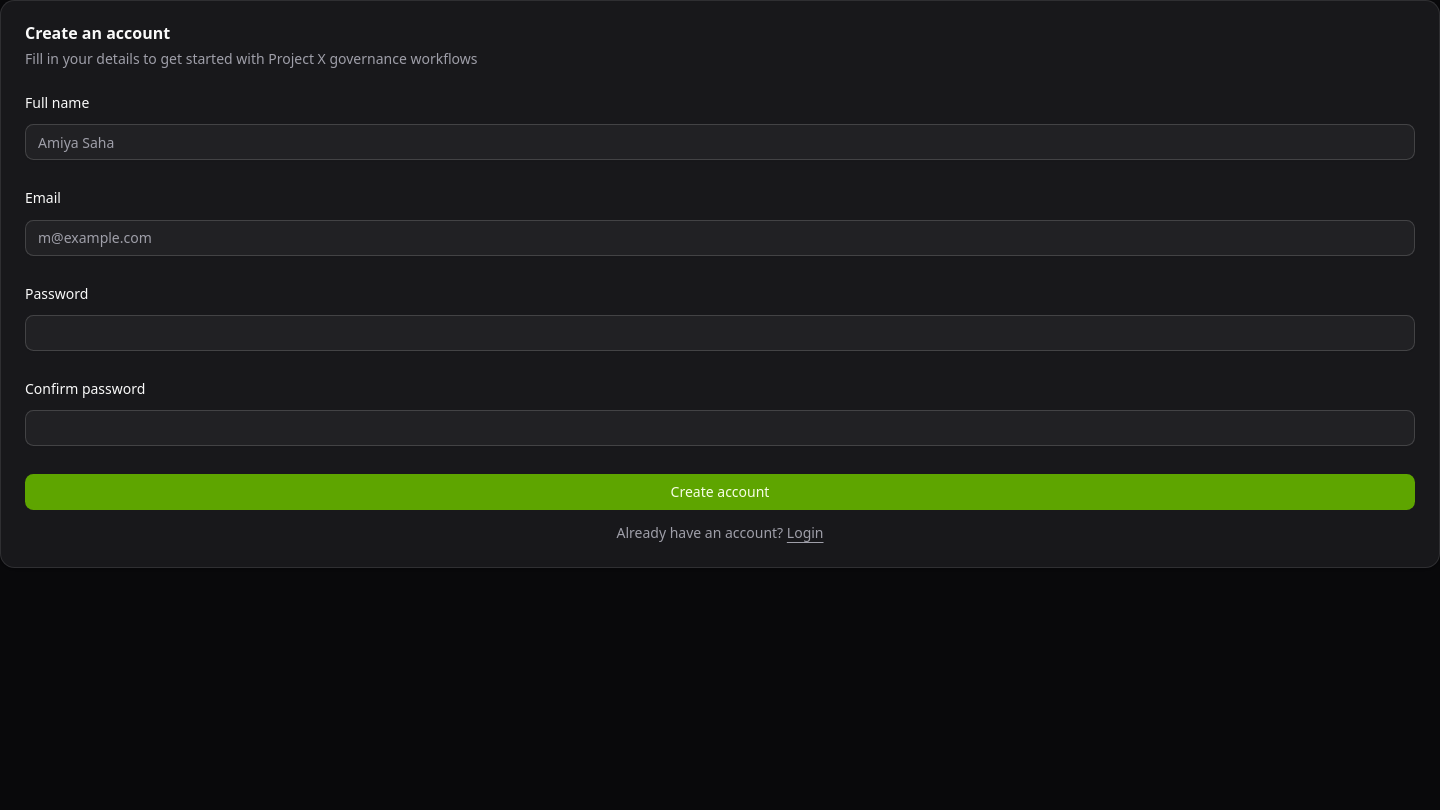
Test: RegisterForm › prevents submission when passwords do not match
Type "pending@example.com" into the field labelled "Email" at (720, 238), box [25, 220, 1415, 256]
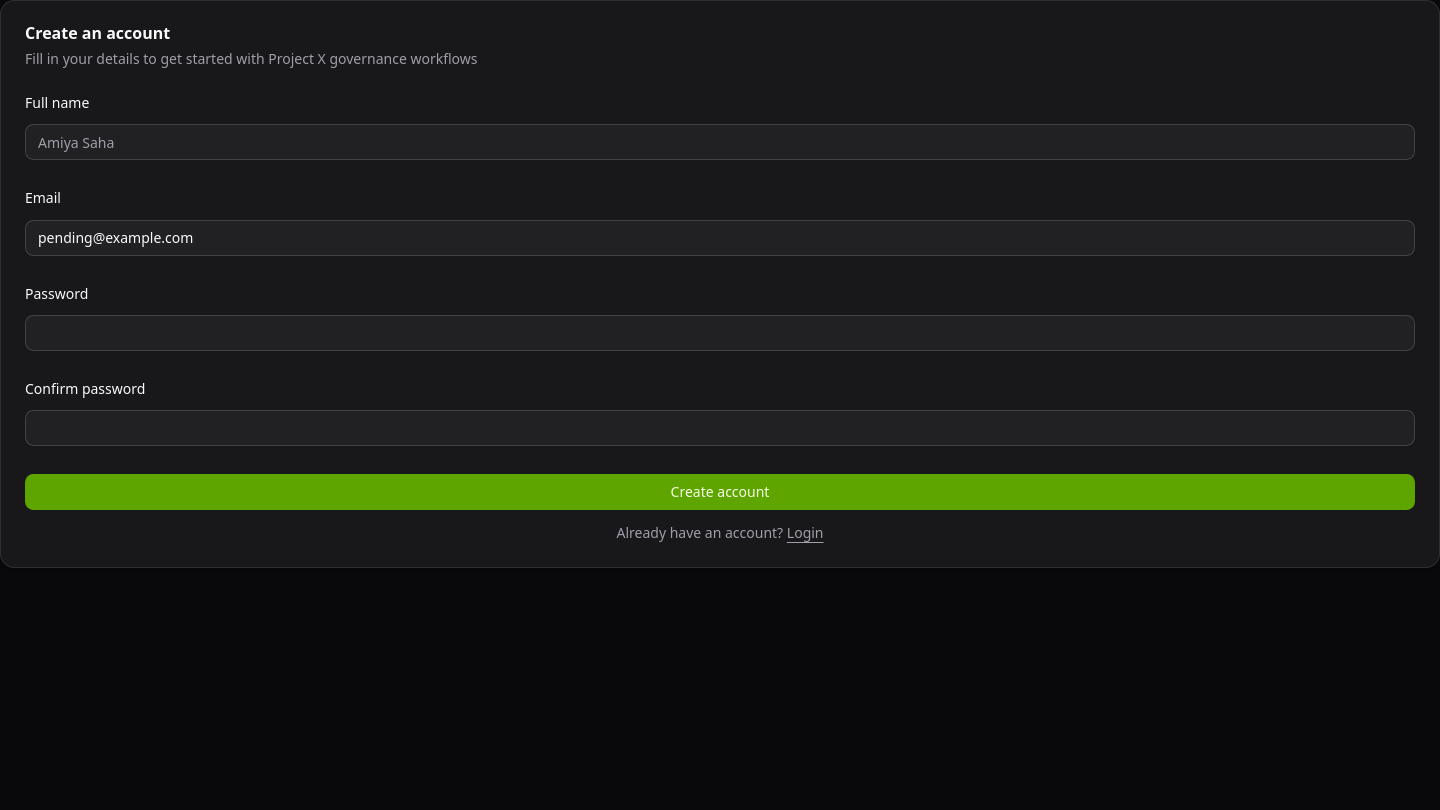
Type "password-one" into the password field labelled "Password" at (720, 333), box [25, 315, 1415, 351]
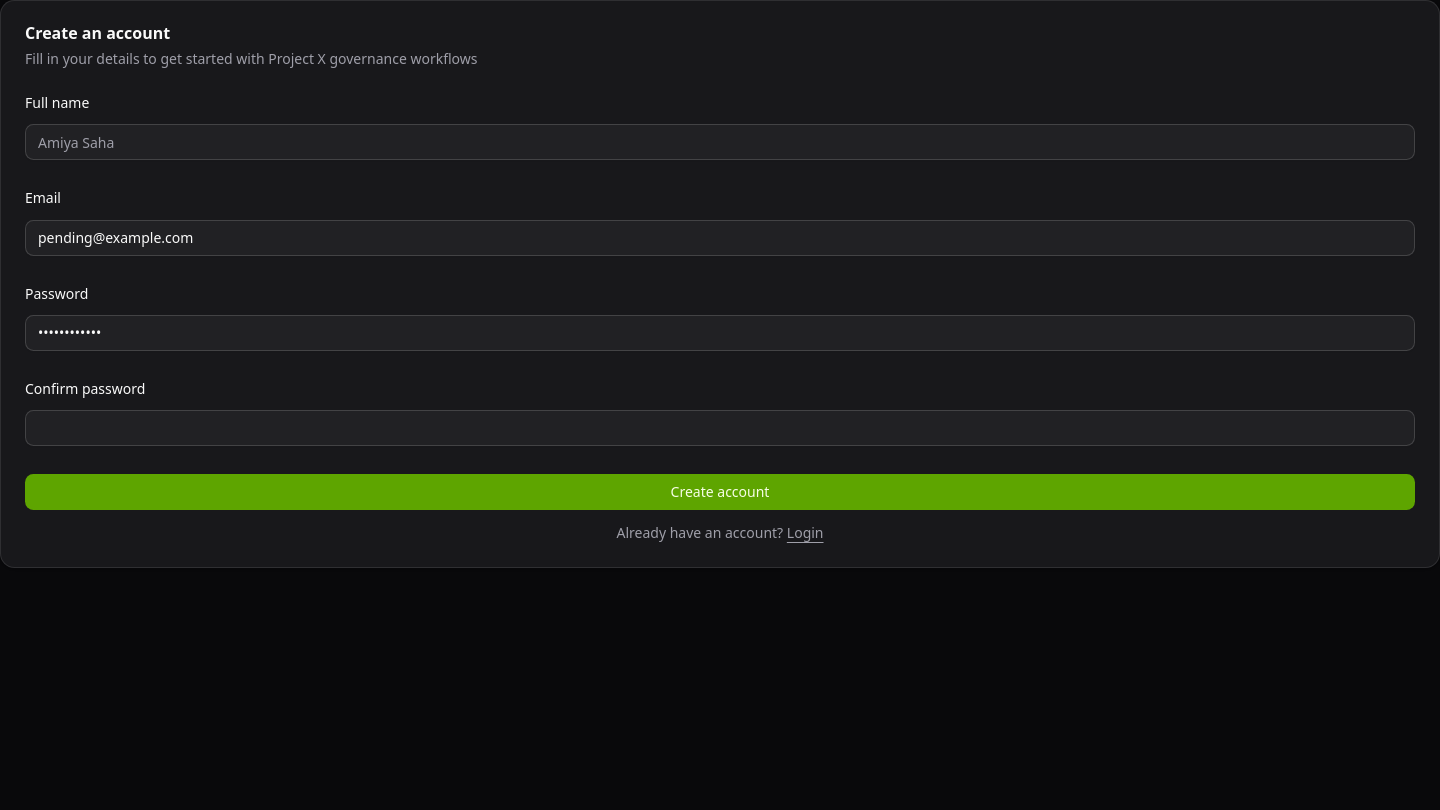
Type "password-two" into the password field labelled "Confirm password" at (720, 428), box [25, 410, 1415, 446]
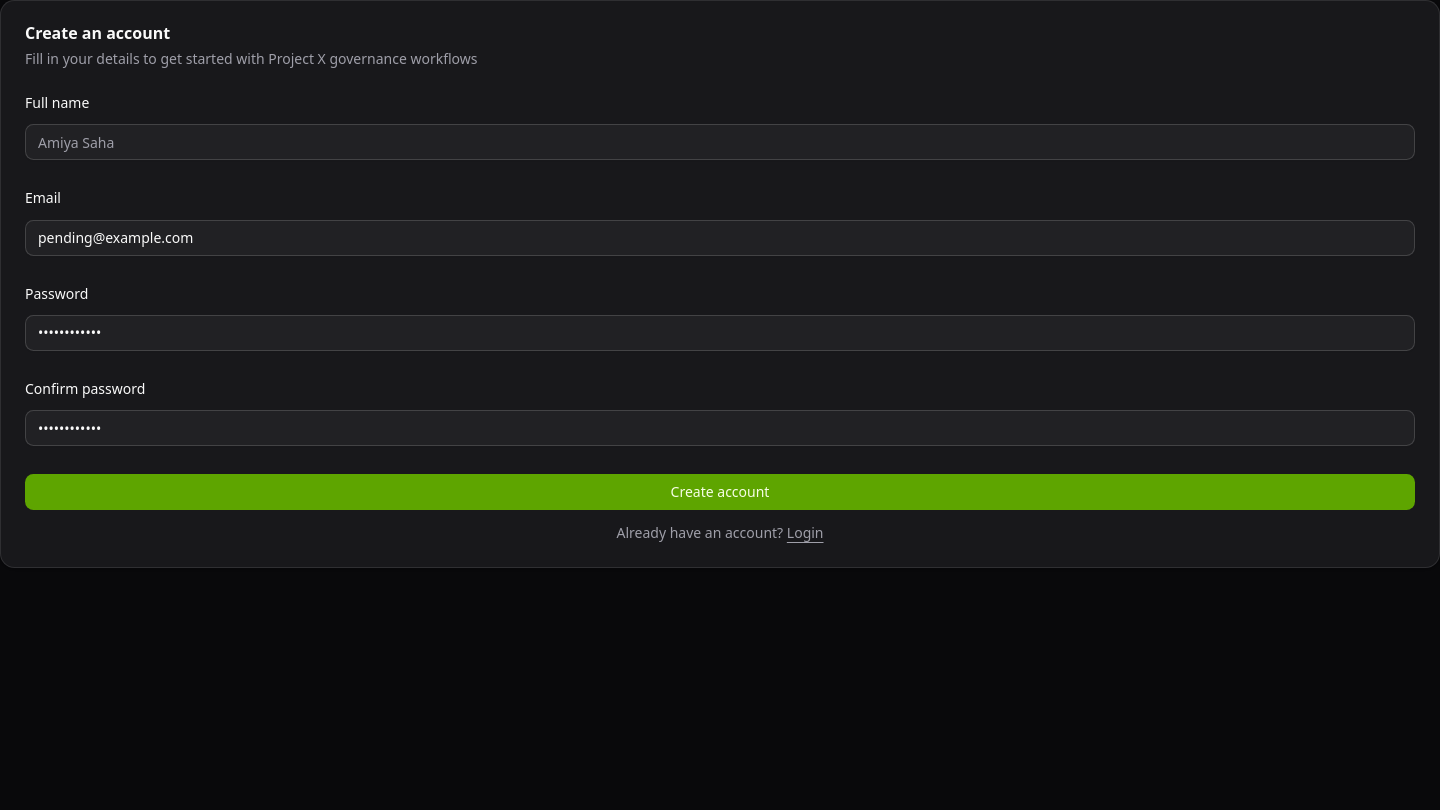
Click the button "Create account" at (720, 492), box [25, 474, 1415, 510]
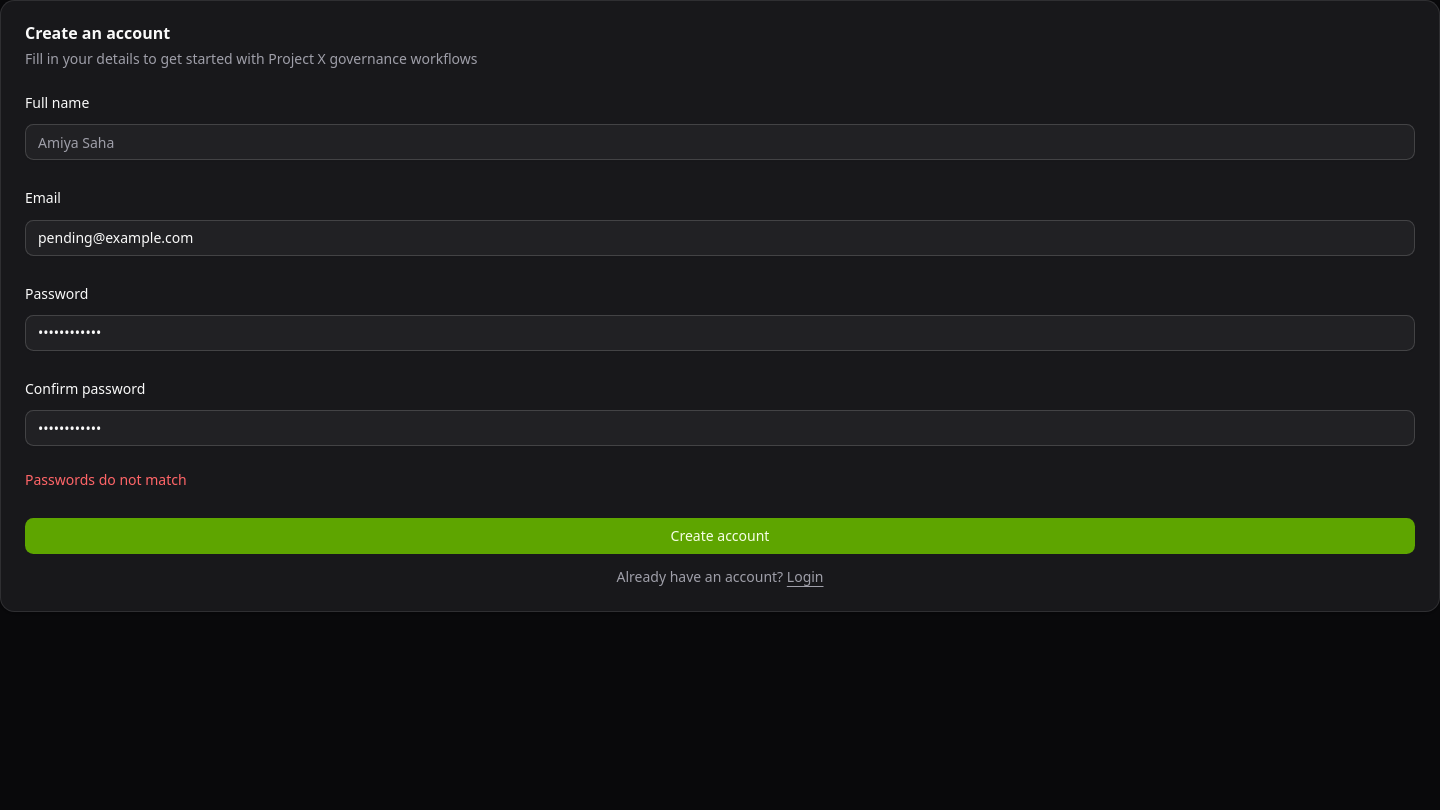
Check: the text "Passwords do not match" is shown, box [25, 470, 187, 489]
